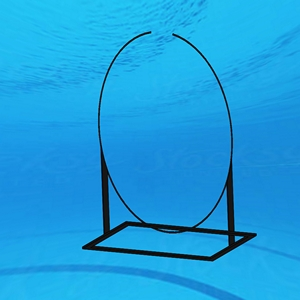circle: (81, 29, 259, 263)
